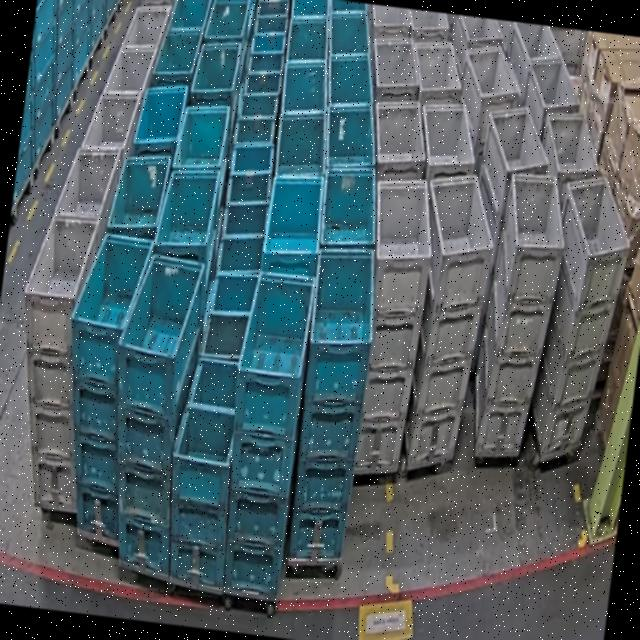4G: (0, 207, 112, 513), (394, 169, 501, 476), (525, 172, 637, 464), (466, 169, 572, 464), (341, 175, 440, 480)
B4: (93, 242, 209, 576), (210, 269, 316, 598), (44, 230, 155, 541), (281, 242, 383, 566)
B8: (156, 355, 250, 588)
